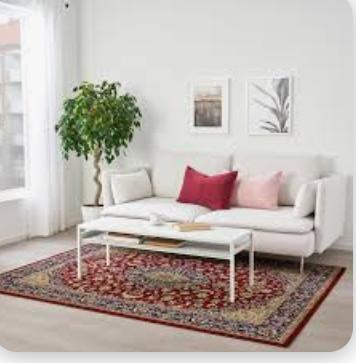carpet: (0, 221, 343, 352)
